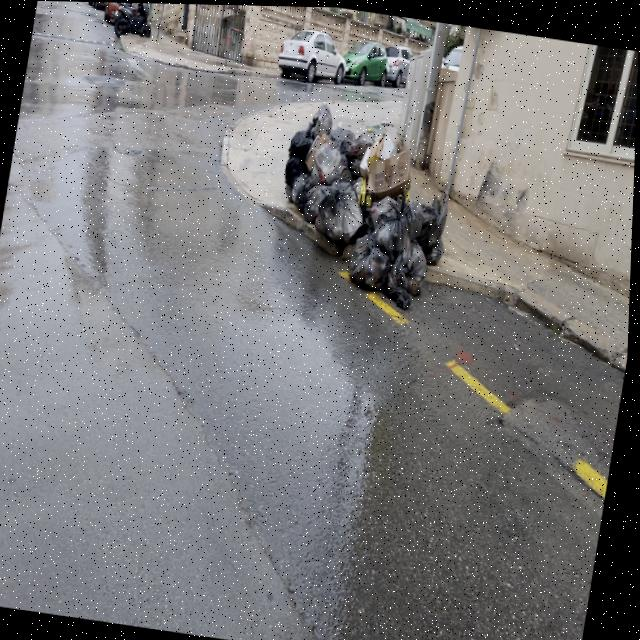Mixed Waste -Black Bag-: (370, 182, 422, 259), (410, 182, 455, 267), (315, 177, 370, 245), (349, 225, 398, 292), (307, 133, 359, 195), (392, 238, 434, 297), (385, 248, 422, 308), (344, 128, 378, 179), (300, 181, 334, 225), (311, 100, 336, 141), (288, 127, 317, 162), (292, 173, 317, 210), (285, 154, 313, 187)
Other: (367, 128, 418, 197), (357, 174, 414, 217), (305, 133, 330, 172), (360, 144, 377, 178), (329, 123, 356, 142)
